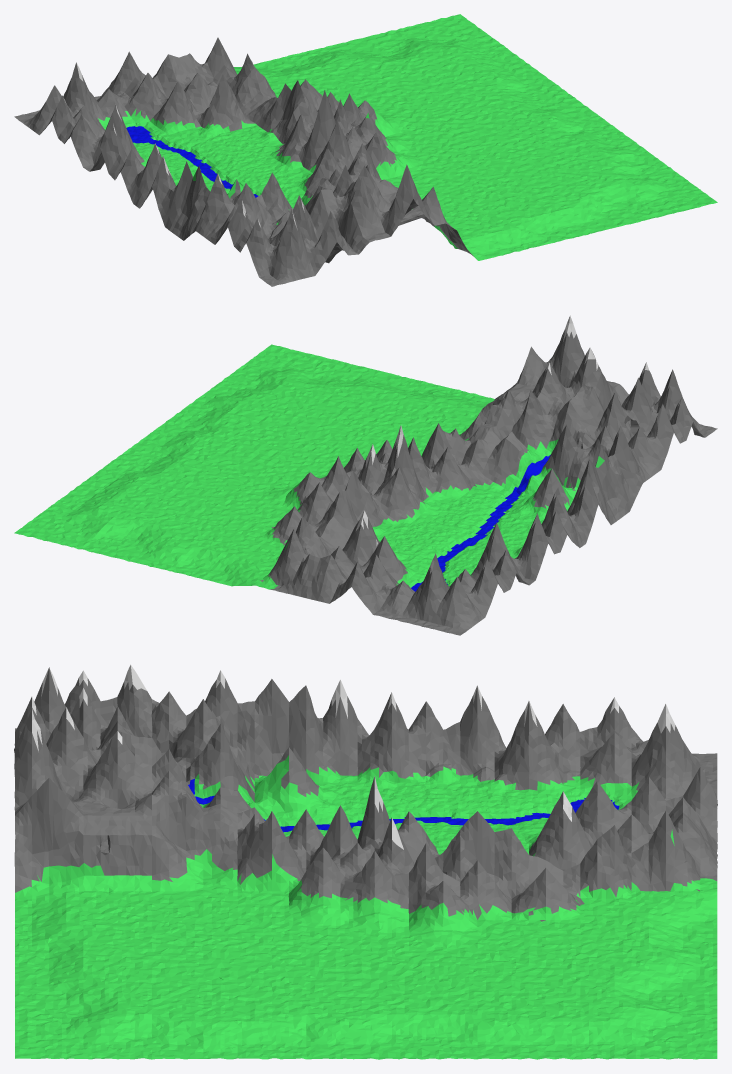
File: Level 3.fbx
3 renders of one model, top to bottom at view 1: azimuth 30°, elevation 25°; view 2: azimuth 150°, elevation 25°; view 3: azimuth 270°, elevation 25°, orthographic. The views are drawn at different scales.
Visible parts, largest first — view 1: Plane; view 2: Plane; view 3: Plane.
Boxes of the visible parts, box(x1,y1,x2,y2) form: Plane: box(14, 14, 717, 286); Plane: box(14, 315, 717, 635); Plane: box(14, 664, 717, 1059).
Bounding box in the file's own units: 2002 × 467 × 2004.
